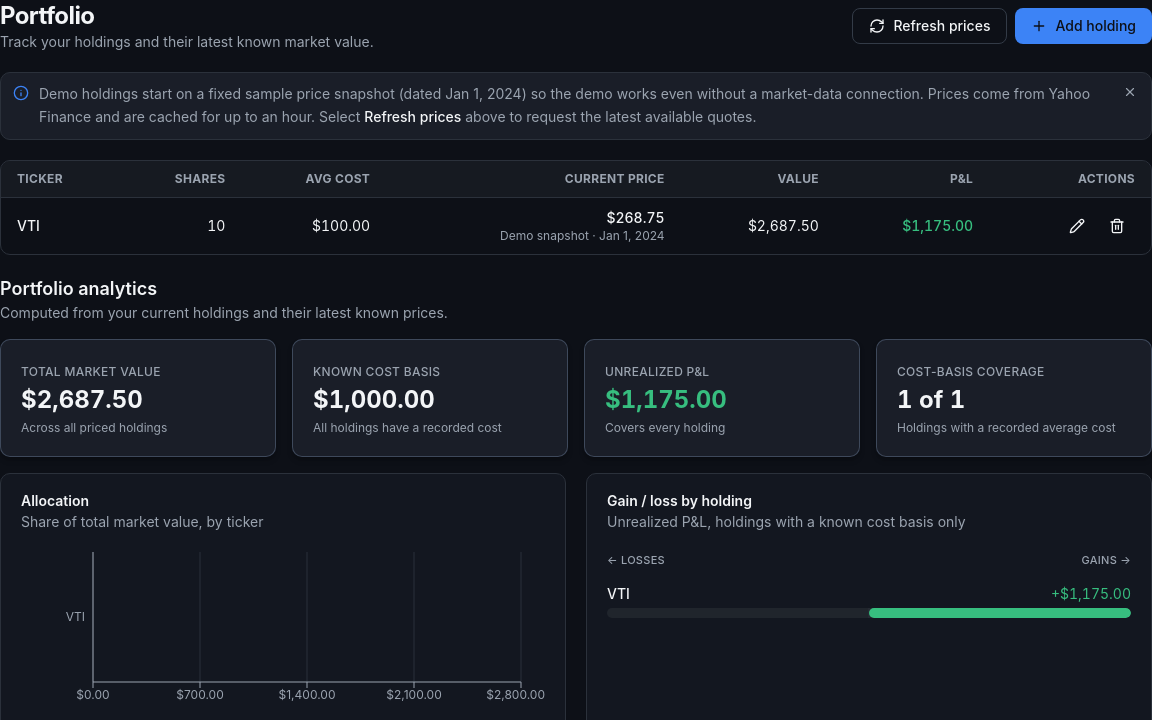
Test: PortfolioPage › dismissing the Demo price notice hides it and remembers the dismissal
Expected: the text "Demo holdings start on a fixed sample" is shown, x1=39 y1=85 x2=1090 y2=125
Click the button named "Dismiss": (1130, 92) x1=1121 y1=83 x2=1139 y2=101
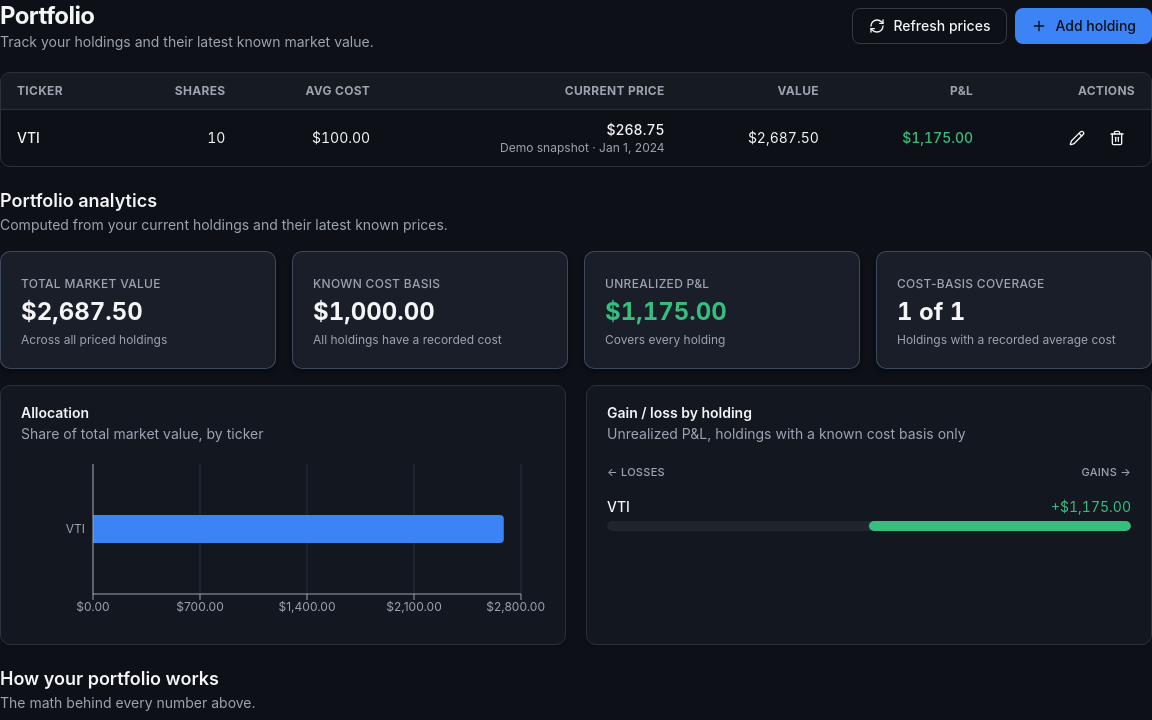
Now the text "Demo holdings start on a fixed sample" is gone
